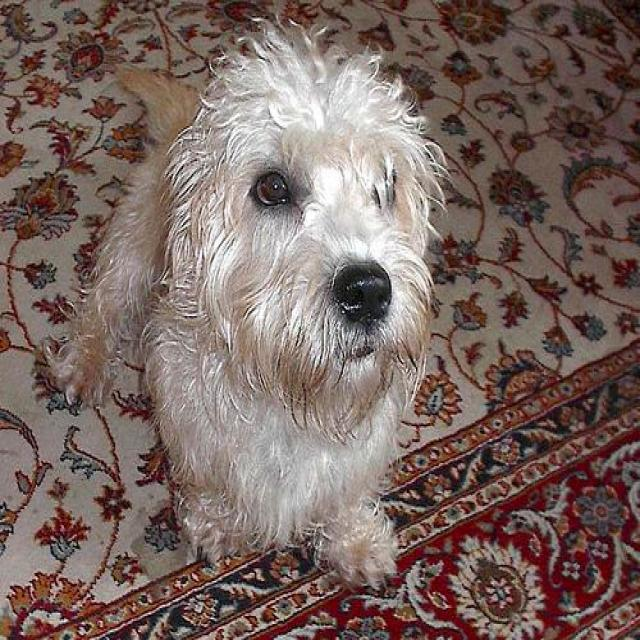dandie_dinmont: (48, 19, 444, 587)
